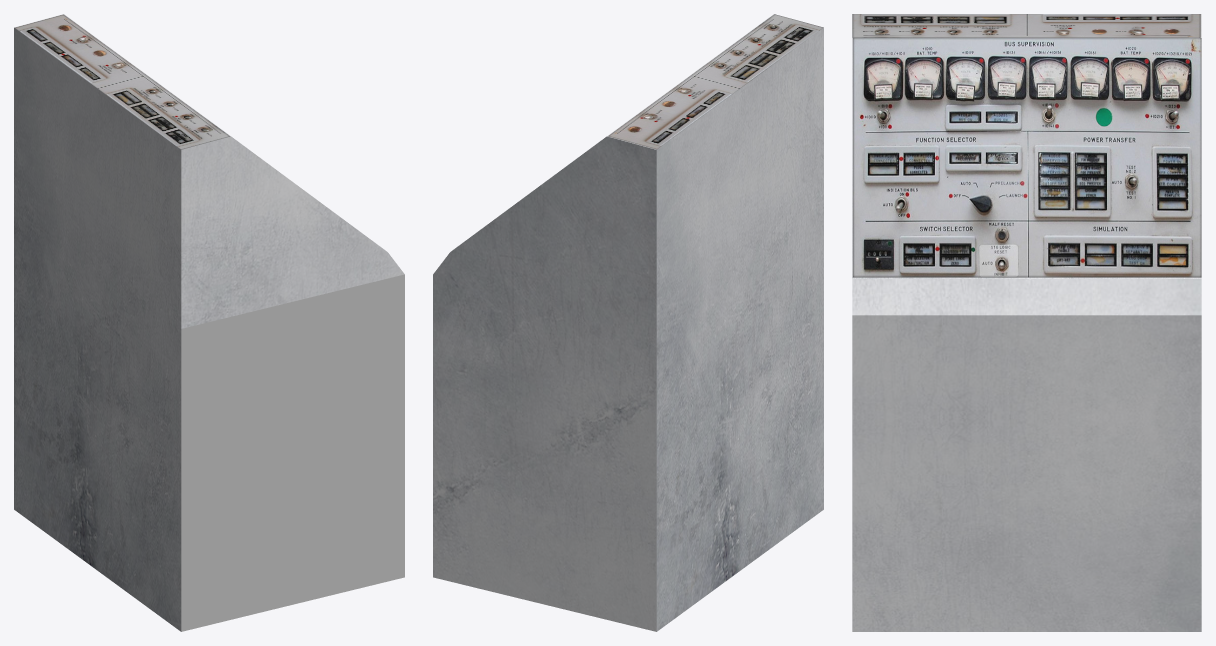
Rendered from Console1.fbx.
3 views of the same model, side by side, from view 1: azimuth 30°, elevation 25°; view 2: azimuth 150°, elevation 25°; view 3: azimuth 270°, elevation 25° (orthographic). The views are drawn at different scales.
Parts seen in each view (by area): view 1: Cube; view 2: Cube; view 3: Cube.
Boxes of the visible parts, bbox=[...] form: Cube: bbox=[14, 14, 404, 631]; Cube: bbox=[433, 14, 823, 631]; Cube: bbox=[852, 14, 1201, 631].
Bounding box in the file's own units: 1.54 × 3.19 × 2.
